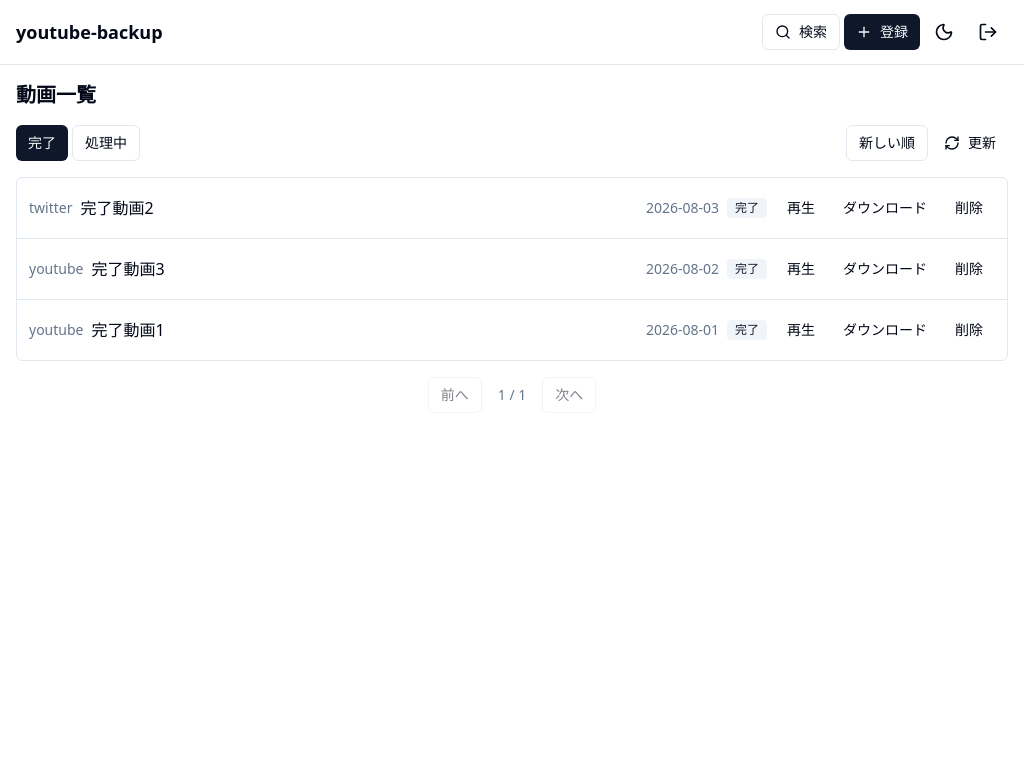
動画検索 結合（ヘッダ→ダイアログ→検索 / US3.1・FR3.1・C5・OQ-C2） › transport 失敗は error 表示にフォールバックする（error-path / FR8）
This screenshot has width=1024, height=768.
Click the button with aria-label "動画を検索" at (801, 32), box top-left (762, 14), bottom-right (840, 50)
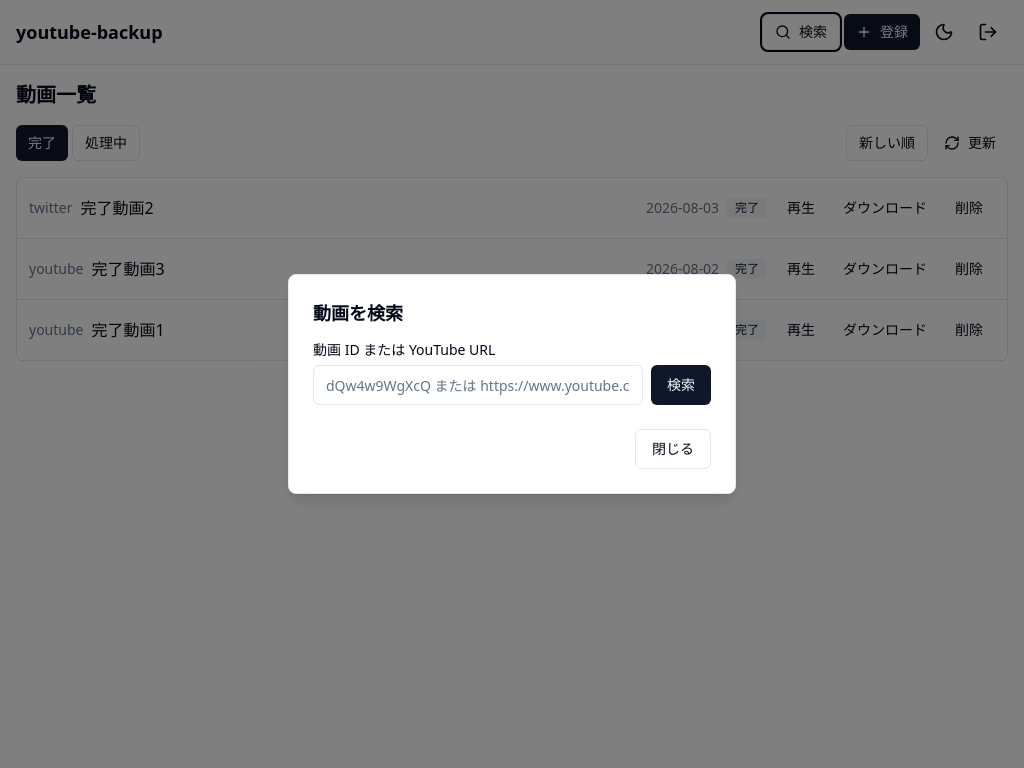
Check: the dialog is shown, box top-left (288, 274), bottom-right (736, 494)
Type "v1" into the field labelled "動画 ID または YouTube URL" at (478, 385), box top-left (313, 365), bottom-right (643, 405)
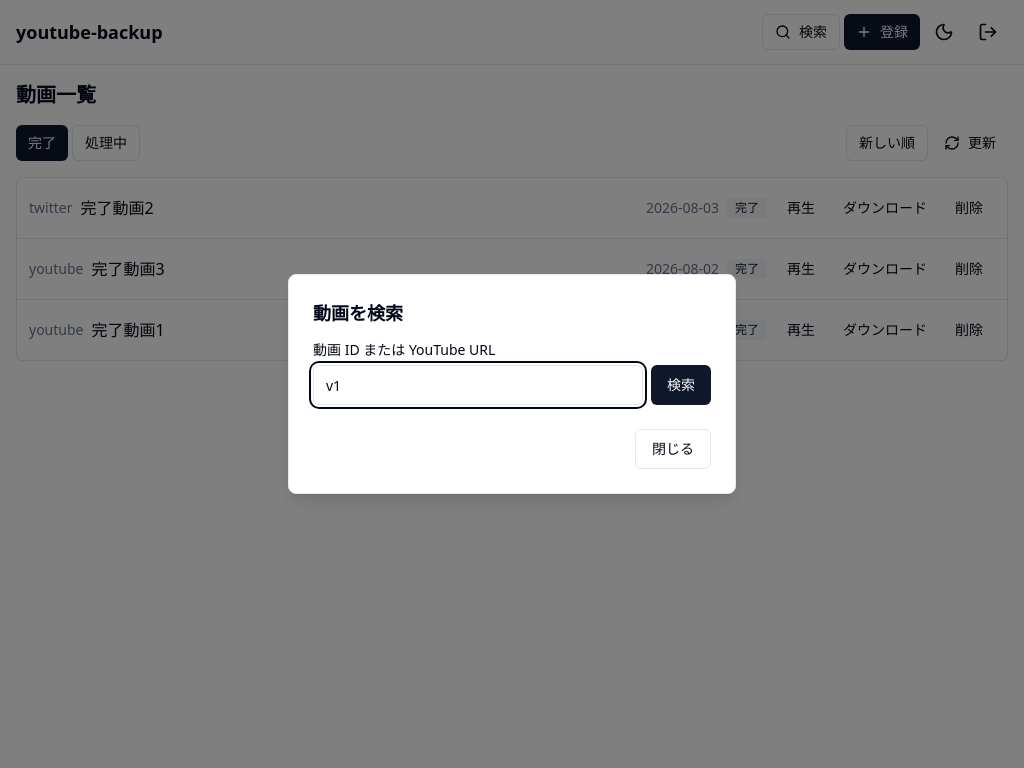
Click the button "検索" at (681, 385), box top-left (651, 365), bottom-right (711, 405)
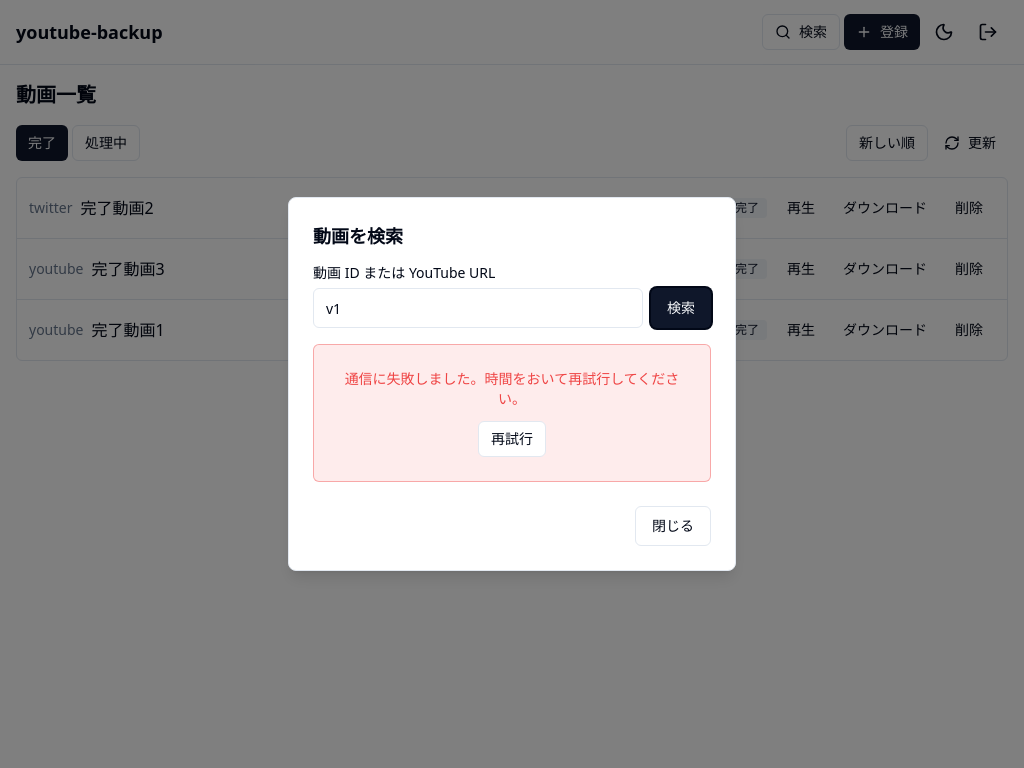
Check: the message shows "通信", box top-left (313, 344), bottom-right (711, 482)
Check: the button "再試行" is shown, box top-left (478, 421), bottom-right (546, 457)
